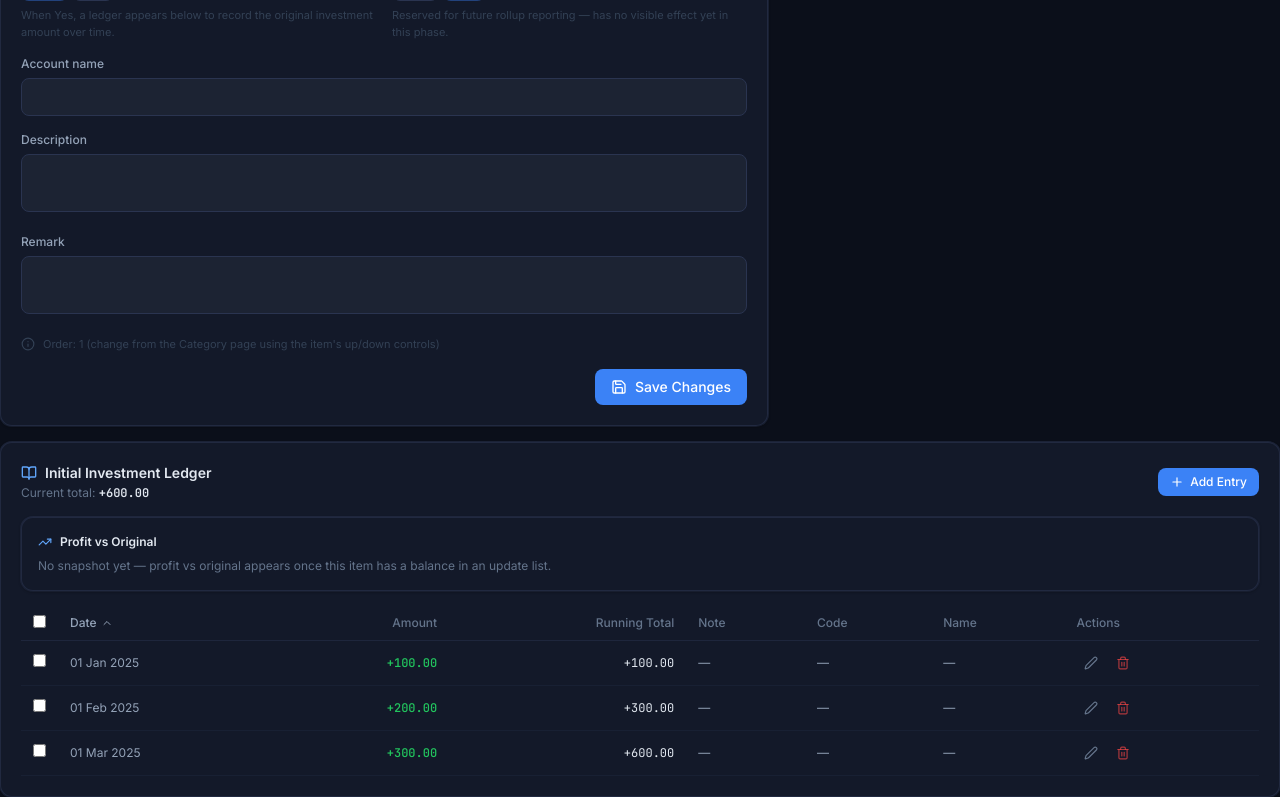
Test: TrackingItemDetailPage — Ledger multi-select & bulk delete › select-all header checkbox reflects none / indeterminate / all states
The width and height of the screenshot is (1280, 797).
(page scrolled)
Check: the column heading "Date" is shown, box [58,606,277,640]
Check: the checkbox named "Select all ledger entries" is not checked, box [33,614,46,628]
Step 1. Click the checkbox named "Select entry on 01 Jan 2025" → click(40, 660), box [33,654,46,667]
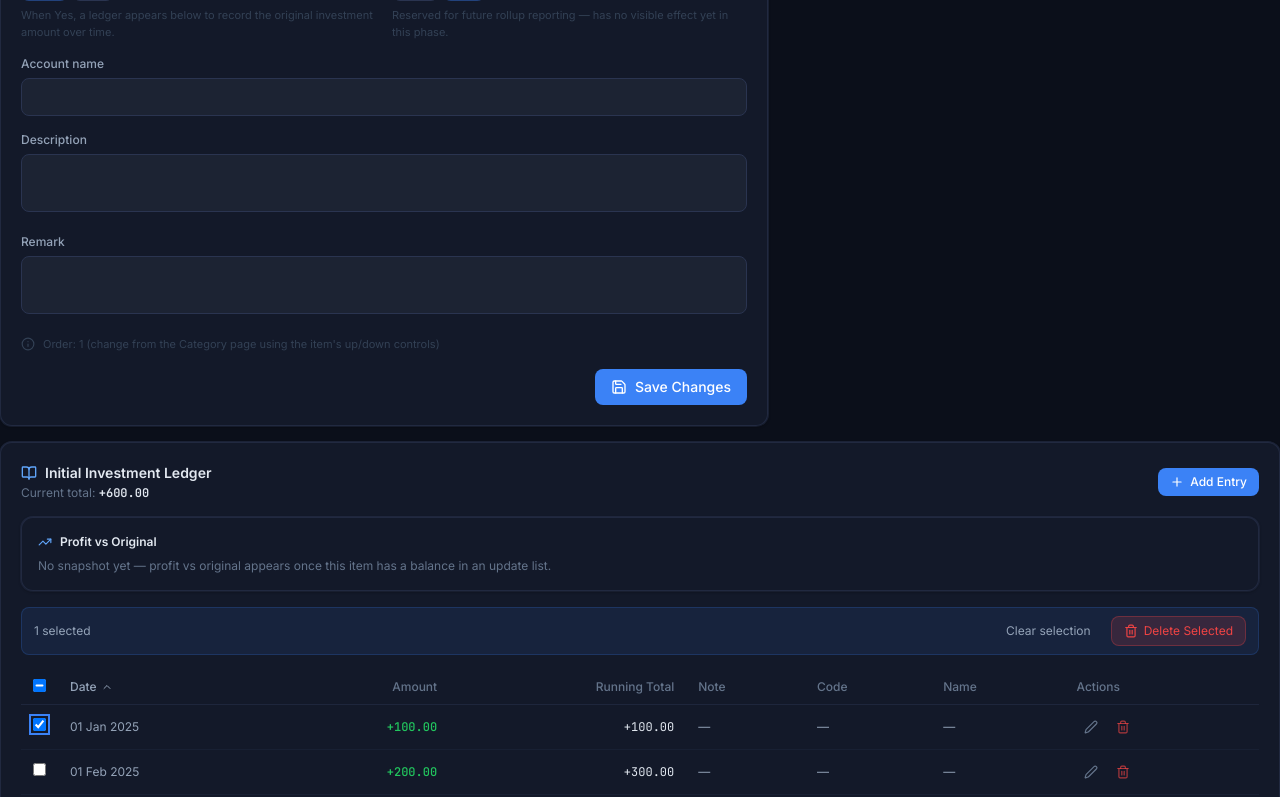
Step 2. Click the checkbox named "Select all ledger entries" → click(40, 685), box [33,678,46,692]
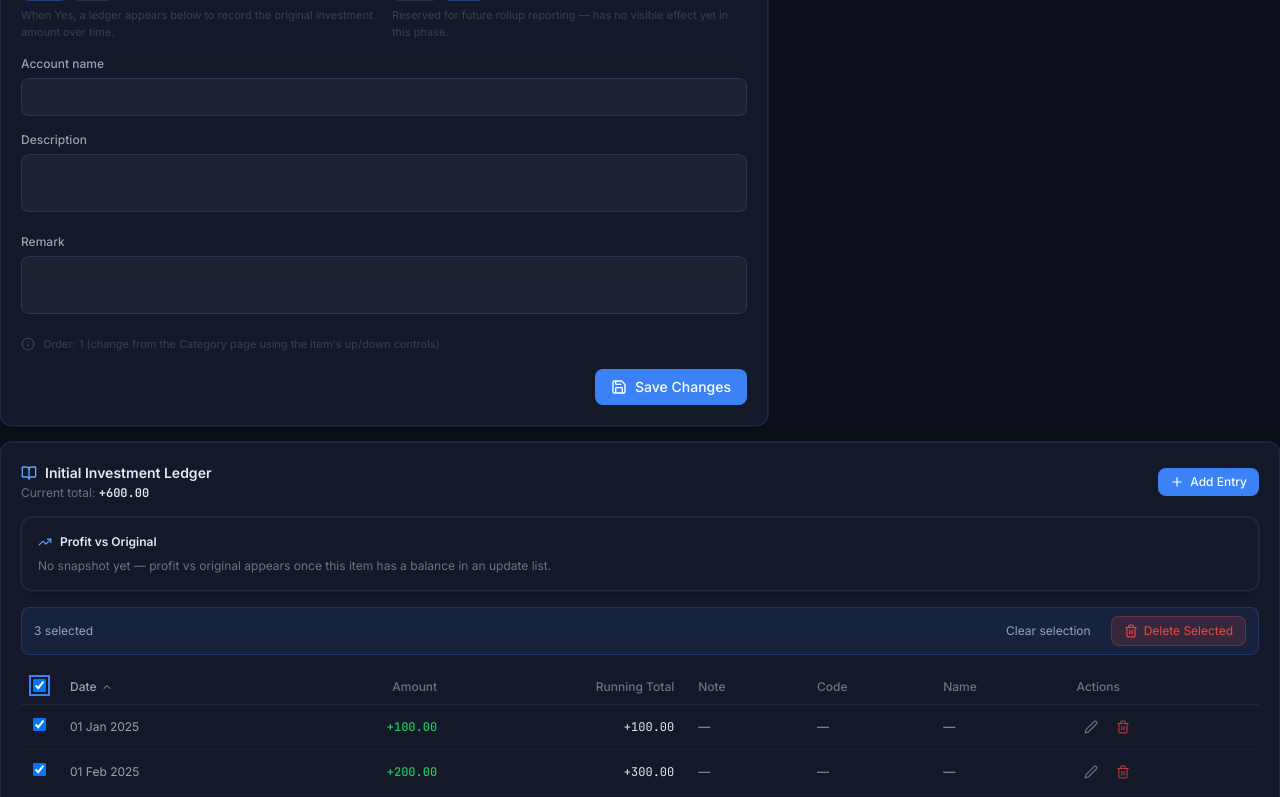
Check: the checkbox named "Select all ledger entries" is checked
Check: the text "3 selected" is shown, box [34,622,93,638]
Step 3. Click the checkbox named "Select all ledger entries" → click(40, 685), box [33,678,46,692]
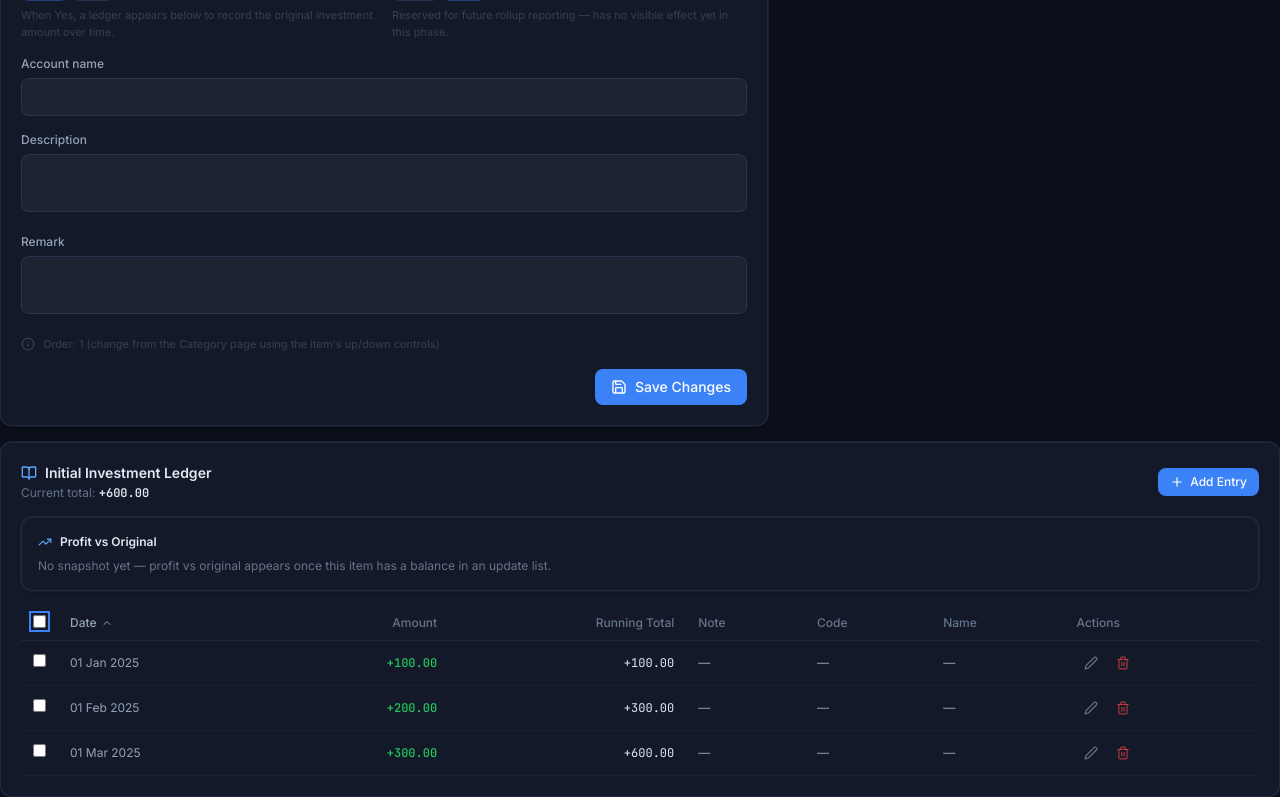
Check: the checkbox named "Select all ledger entries" is not checked, box [33,614,46,628]
Check: the text "selected" is gone
